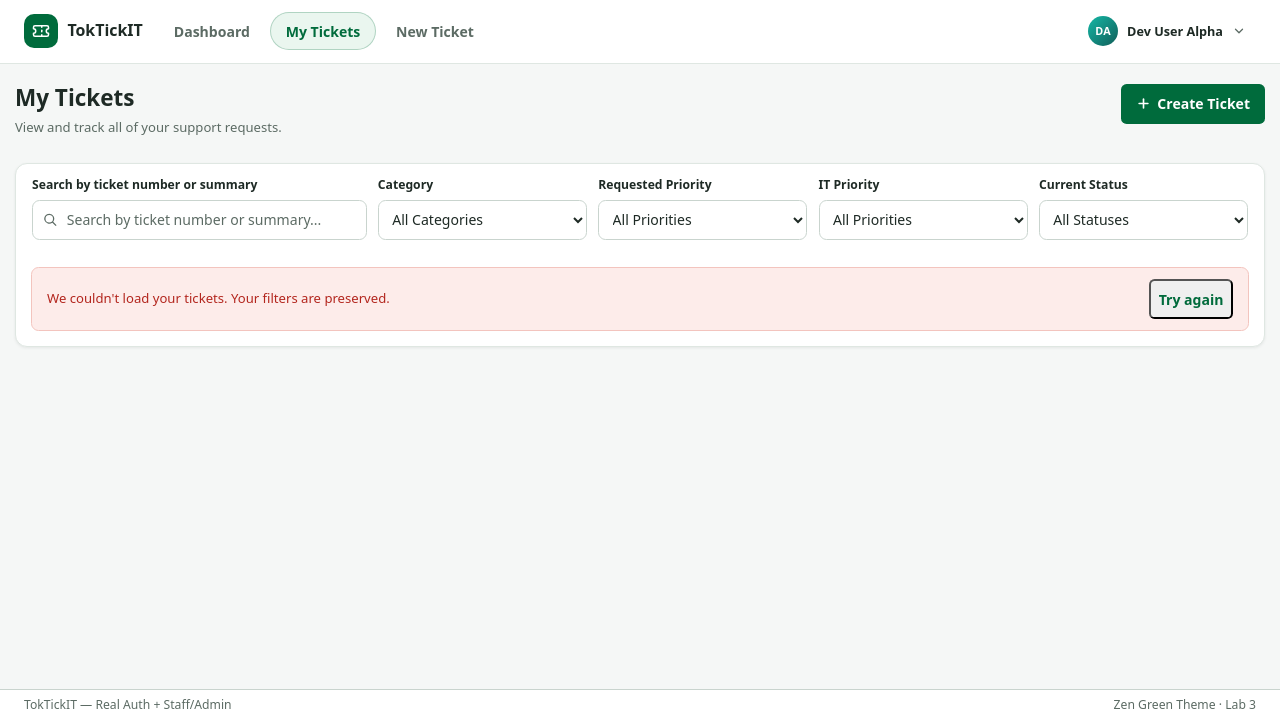
Test: UI-04 — initial load renders skeleton then data; failure shows retry › failure renders an alert banner with Try again and preserves filter state across retry
Expected: the heading "My Tickets" is shown, [15,82,134,113]
Expected: the message shows "We couldn't load your tickets. Your filters are preserved.", [47,289,390,307]
Set a filter while failed so we can prove it survives the retry.
Type "vpn" into the search field with placeholder "Search by ticket number or summary...". click: [199, 220]
box: [32,200,367,240]
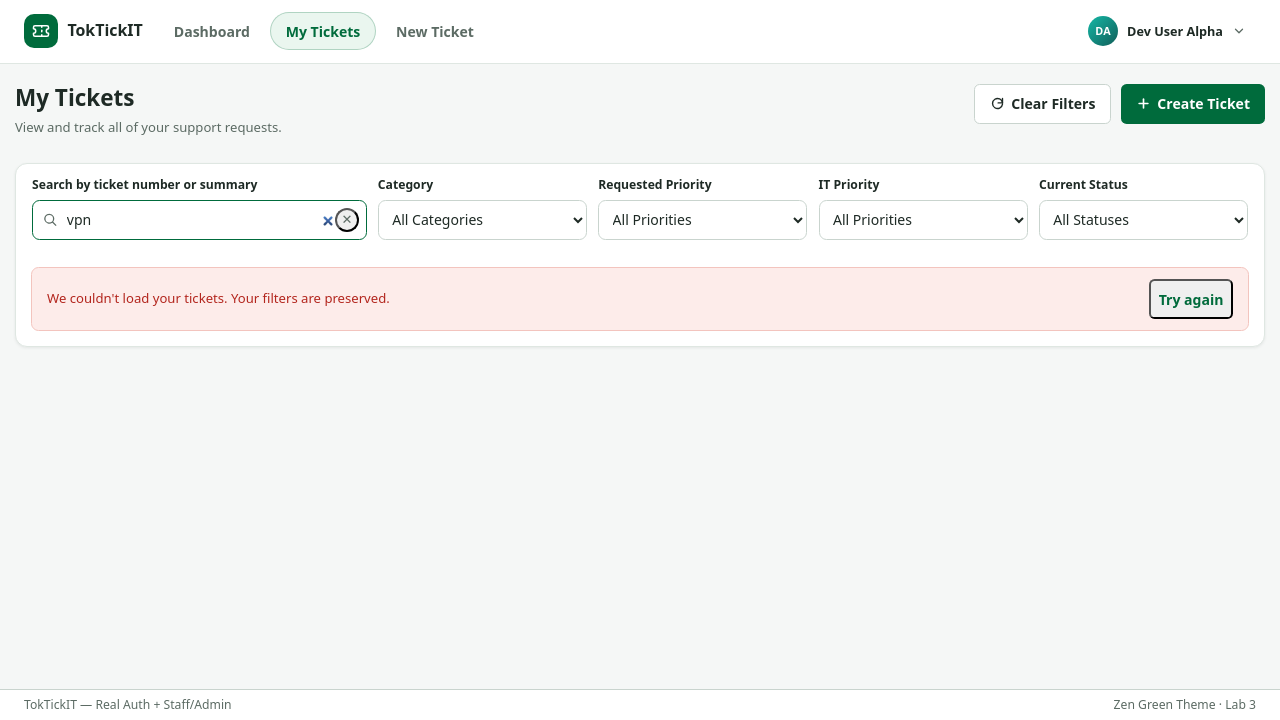
Click the button "Try again". click: [1191, 299]
box: [1149,279,1233,319]
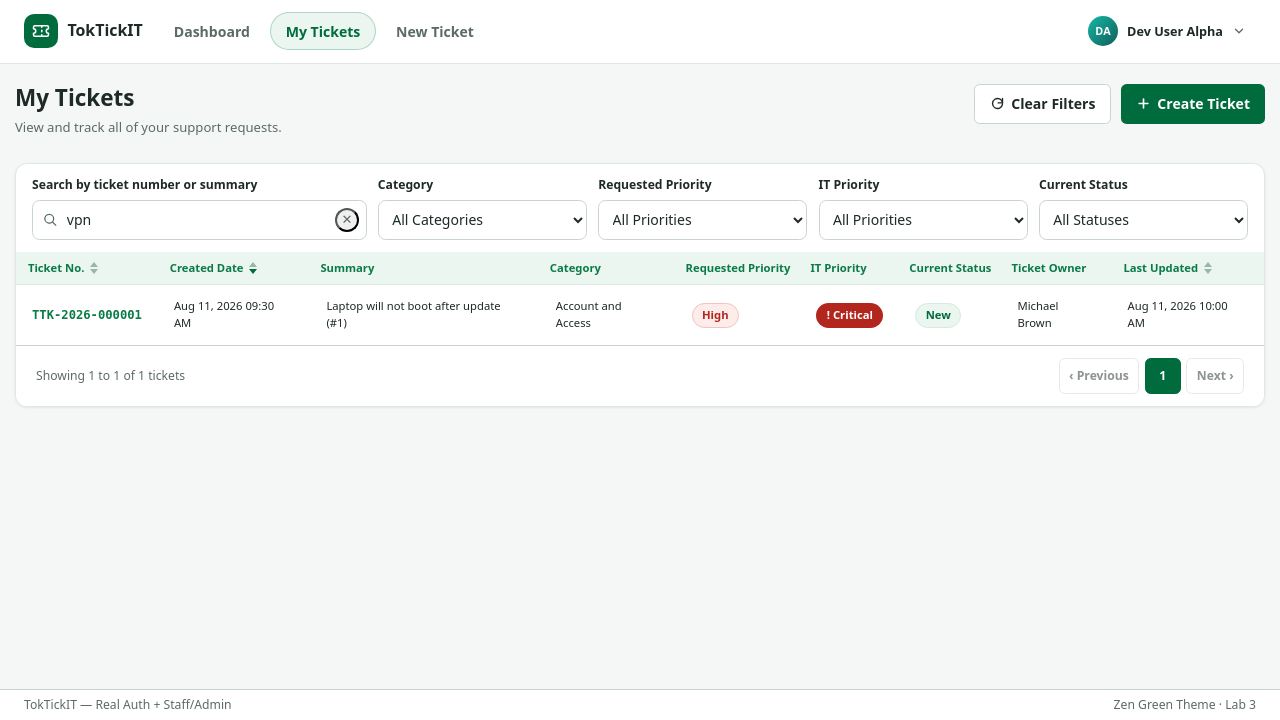
Expected: the link "TTK-2026-000001" is shown, [32,308,142,322]
Expected: the message "We couldn't load your tickets. Your filters are preserved. Try again" is gone
